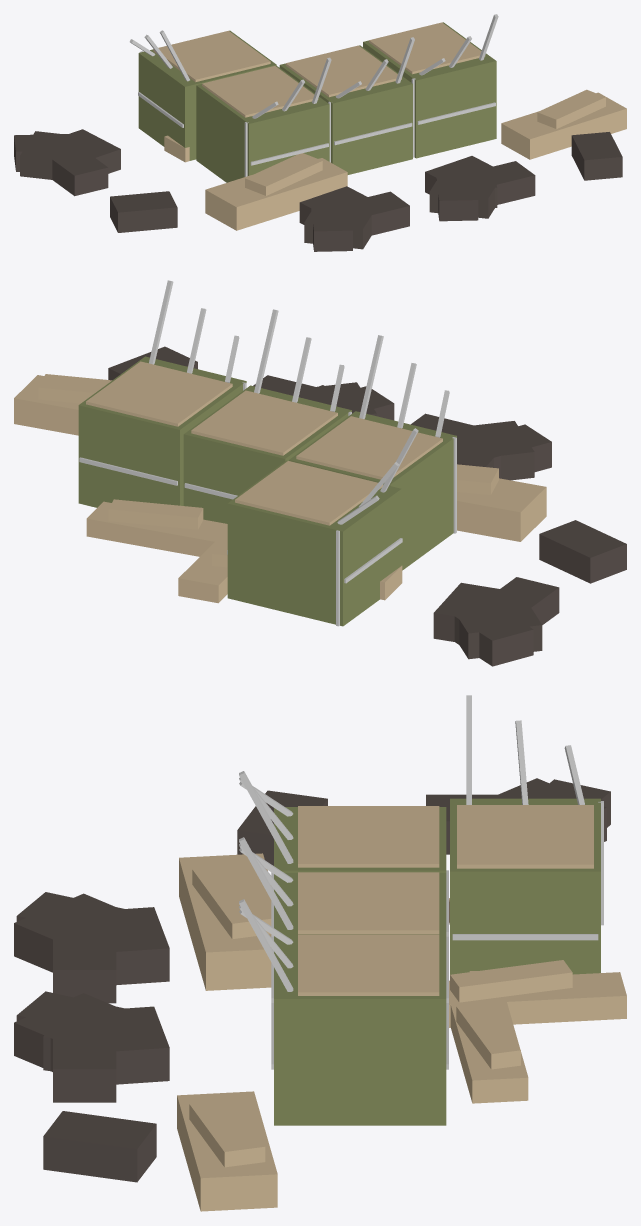
File: SM_HescoRemate_v4_Red_e2_MuyDanado_LOD0.fbx
3 renders of one model, top to bottom at view 1: azimuth 30°, elevation 25°; view 2: azimuth 150°, elevation 25°; view 3: azimuth 270°, elevation 25°, orthographic. The views are drawn at different scales.
Parts seen in each view (by area): view 1: SM_hesco_piezas_v38_LOD0; view 2: SM_hesco_piezas_v38_LOD0; view 3: SM_hesco_piezas_v38_LOD0.
Part boxes in pixels (x1,y1,x2,y2): SM_hesco_piezas_v38_LOD0: (14,14,626,251); SM_hesco_piezas_v38_LOD0: (14,280,626,666); SM_hesco_piezas_v38_LOD0: (14,695,626,1211).
Size of the model in its own units: 6.71 by 1.7 by 4.34.
